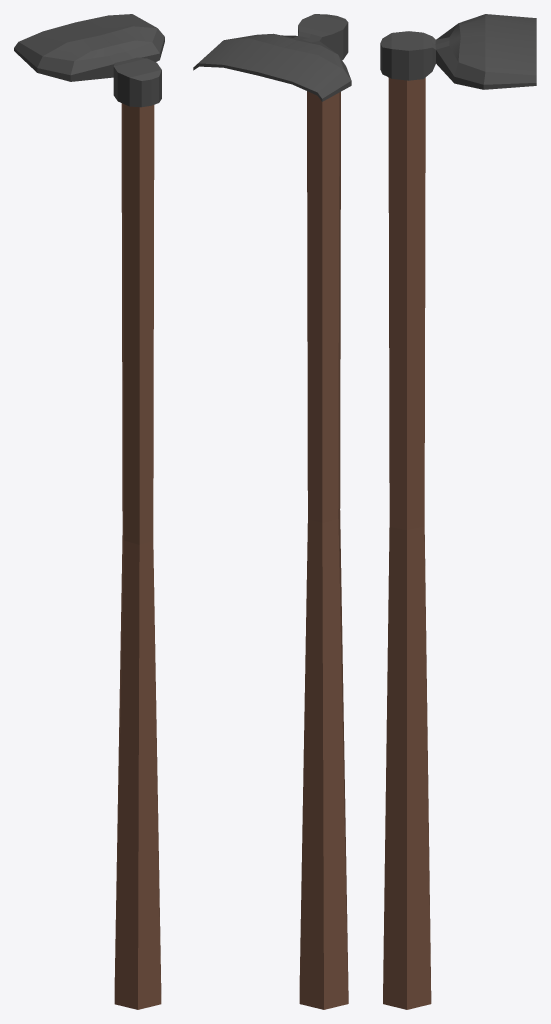
The picture shows the model from 3 angles, left to right: view 1: azimuth 30°, elevation 25°; view 2: azimuth 150°, elevation 25°; view 3: azimuth 270°, elevation 25°; orthographic projection. The views are drawn at different scales.
Visible parts, largest first — view 1: 农具_1; view 2: 农具_1; view 3: 农具_1.
Boxes of the visible parts, left/top/right/bottom form: 农具_1: left=14, top=14, right=164, bottom=1009; 农具_1: left=193, top=14, right=351, bottom=1009; 农具_1: left=380, top=14, right=536, bottom=1009.
Size of the model in its own units: 28.85 by 202 by 29.63.
